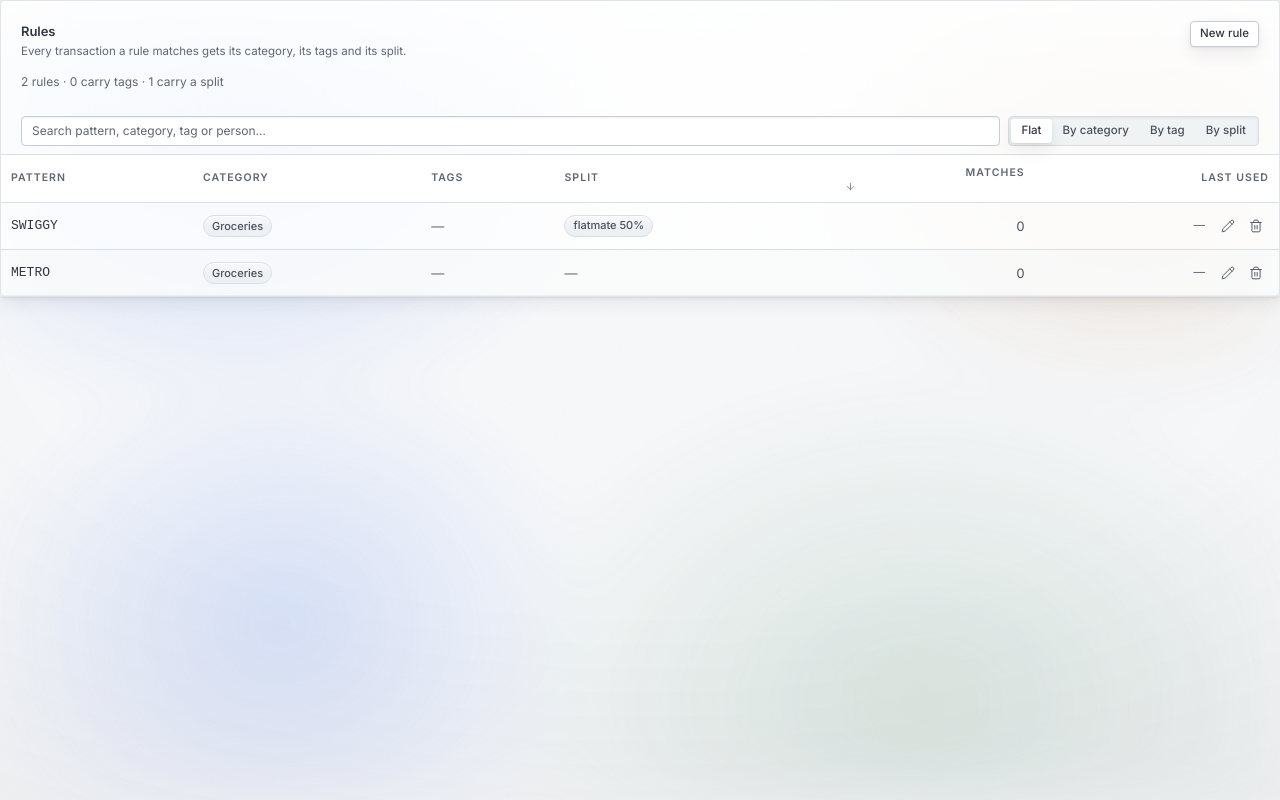
Scenario: MappingsSection CRUD › groups rules by the person they split with
Check: the text "SWIGGY" is shown, box 1,202 -> 193,249
What coordinates should you click on to do the following:
click the button "By split"
I would click on:
 (1226, 130)
Its box is 1196,118 -> 1256,142.
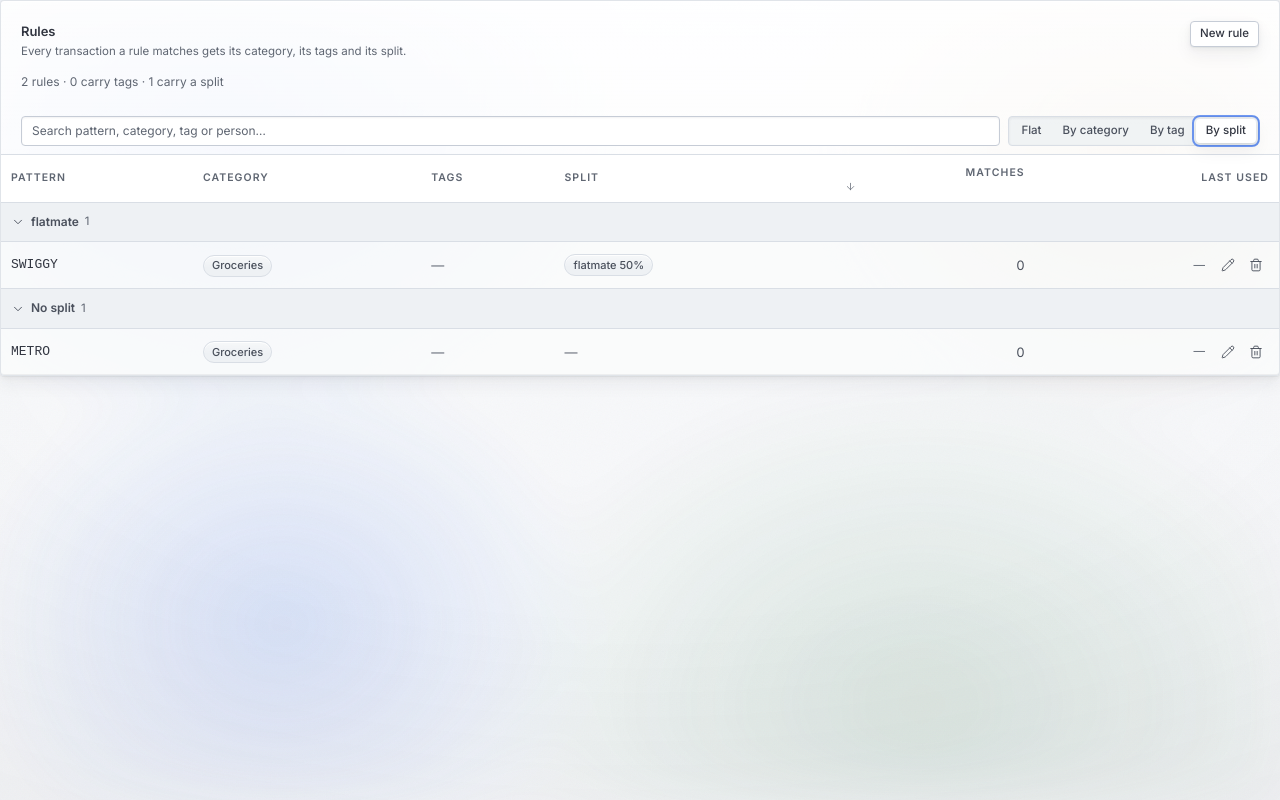
Check: the text "flatmate" is shown, box 31,213 -> 79,231
Check: the text "No split" is shown, box 31,299 -> 75,318
